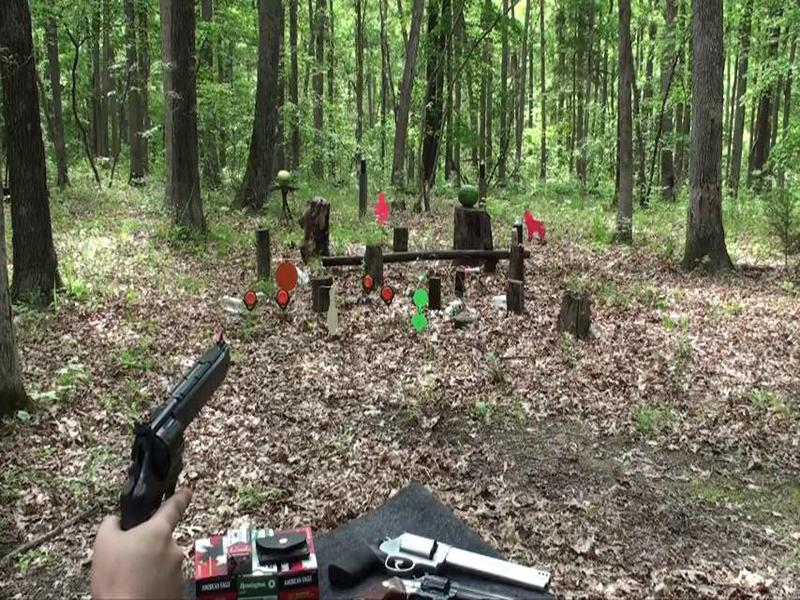Revolver: (117, 341, 240, 536)
